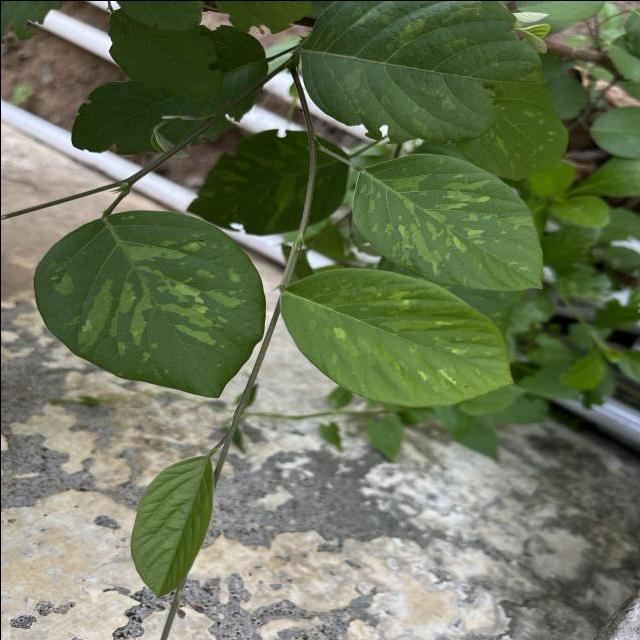Desmodium gangeticum: (29, 207, 267, 400), (276, 264, 518, 410), (348, 148, 546, 294)
